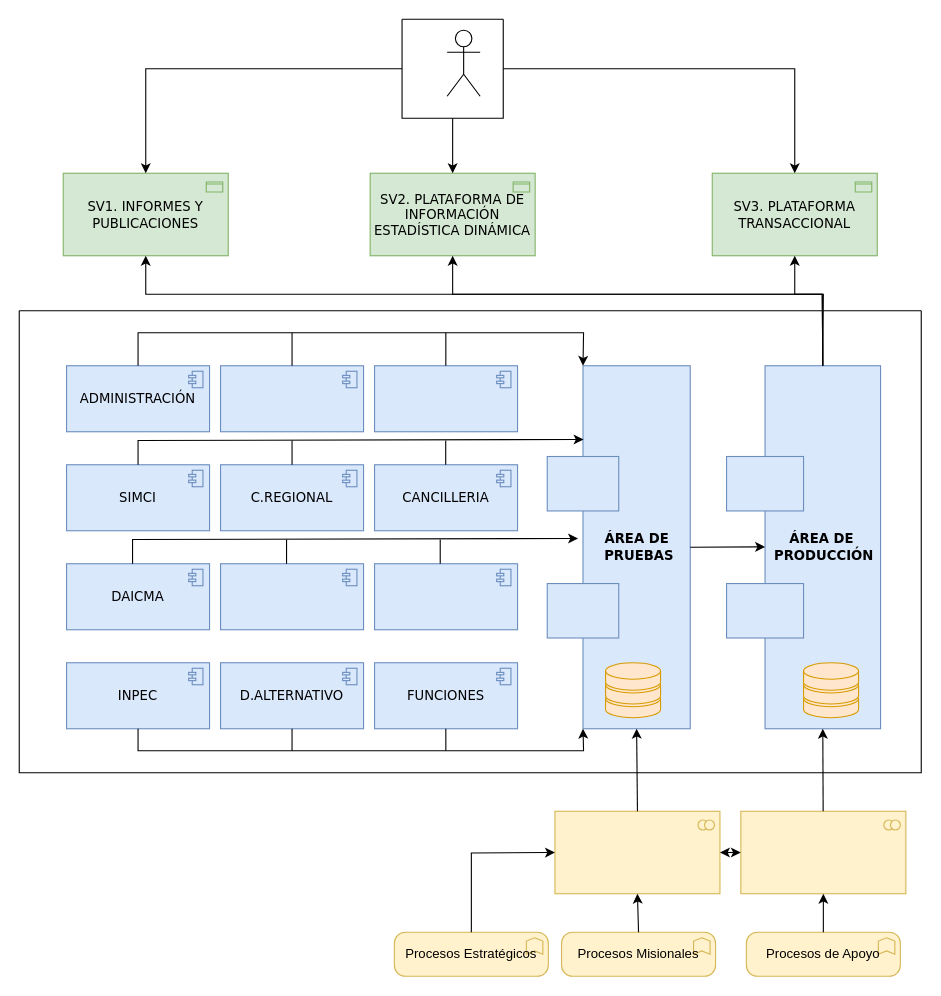
The diagram is 941 pixels wide and 996 high, and some of its shapes have lost their labels. Here are the shapes that lost their labels. From the top down, the centre of each, then its label:
[463,62]: USUARIOS
[291,398]: MINDEDENSA
[445,398]: MINJUSTICIA
[291,596]: EVOA
[445,596]: C.GEOGRÁFICAS
[637,852]: SUBDIRECCIÓN ESTRATÉGICA Y DE ANÁLISIS
[823,852]: SUBDIRECCIÓN DE TECNOLOGÍAS Y SISTEMAS DE INFORMACIÓN
